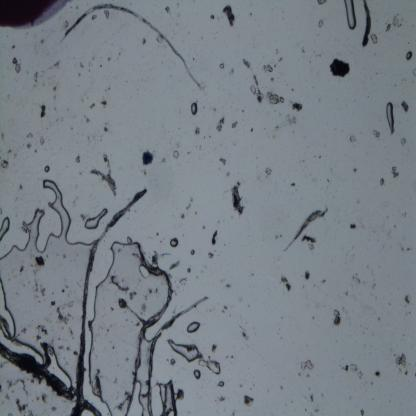Air bubble: (22, 178, 74, 256), (0, 276, 17, 340), (167, 338, 202, 363), (84, 208, 107, 231), (342, 0, 358, 32), (384, 98, 396, 134), (198, 357, 221, 374), (0, 216, 10, 241), (186, 319, 201, 334), (189, 100, 198, 117), (192, 366, 202, 380), (169, 237, 179, 248), (405, 51, 413, 60), (218, 380, 224, 388), (44, 165, 50, 173), (190, 248, 195, 256), (187, 266, 191, 274)
Background material: (240, 58, 264, 101), (119, 296, 143, 322), (330, 54, 352, 79), (275, 110, 297, 135), (55, 300, 75, 327), (4, 375, 28, 397), (230, 180, 245, 215), (342, 360, 364, 379), (110, 274, 129, 294), (13, 396, 32, 415), (382, 16, 404, 32), (278, 272, 293, 294), (265, 90, 285, 106), (92, 366, 102, 397), (222, 5, 236, 27), (32, 278, 46, 298), (116, 391, 131, 409), (393, 351, 408, 367), (10, 56, 22, 75), (300, 358, 315, 373), (332, 306, 342, 328), (36, 324, 48, 342), (34, 390, 48, 405), (46, 61, 61, 73), (243, 393, 255, 408), (140, 301, 150, 317), (263, 62, 274, 76), (217, 116, 226, 133), (185, 195, 194, 211), (169, 258, 179, 272), (399, 133, 409, 147), (371, 31, 379, 48), (308, 386, 317, 401), (391, 166, 400, 181), (35, 256, 46, 268), (371, 128, 382, 140), (400, 98, 410, 111), (402, 293, 412, 306), (176, 384, 184, 400), (265, 166, 274, 180), (292, 101, 303, 112), (32, 68, 38, 88), (39, 104, 47, 119), (211, 230, 218, 247), (303, 268, 311, 282), (0, 158, 8, 172), (178, 276, 188, 287), (348, 220, 358, 231), (155, 33, 164, 45), (210, 342, 219, 354), (348, 133, 357, 144), (379, 175, 386, 189), (38, 134, 46, 146), (100, 97, 108, 109), (129, 289, 137, 301), (104, 8, 111, 21), (61, 21, 70, 31), (82, 113, 90, 124), (194, 126, 202, 137), (317, 17, 324, 29), (206, 251, 215, 260), (172, 150, 180, 160), (317, 0, 330, 6), (219, 59, 226, 70), (219, 157, 226, 168), (76, 61, 84, 70), (88, 101, 96, 110), (242, 329, 248, 341), (217, 394, 226, 402), (24, 141, 32, 150), (20, 326, 27, 336), (231, 120, 239, 128), (374, 370, 382, 378), (72, 348, 79, 357), (221, 304, 228, 313), (352, 164, 358, 174), (165, 4, 171, 14), (19, 264, 25, 274), (288, 181, 296, 188), (410, 68, 416, 77), (142, 36, 147, 46), (26, 132, 33, 139), (90, 15, 98, 21), (358, 408, 364, 415), (50, 299, 56, 306), (75, 155, 80, 163), (104, 124, 109, 132), (180, 212, 185, 220), (210, 14, 216, 20)
Cellulose filter fibre: (72, 189, 148, 414), (60, 3, 203, 92), (124, 238, 176, 416), (146, 294, 209, 414), (0, 342, 100, 414), (282, 205, 331, 255), (86, 155, 118, 196), (359, 1, 371, 45)
Fragment: (142, 150, 154, 166)
Pen: (0, 0, 72, 29)
